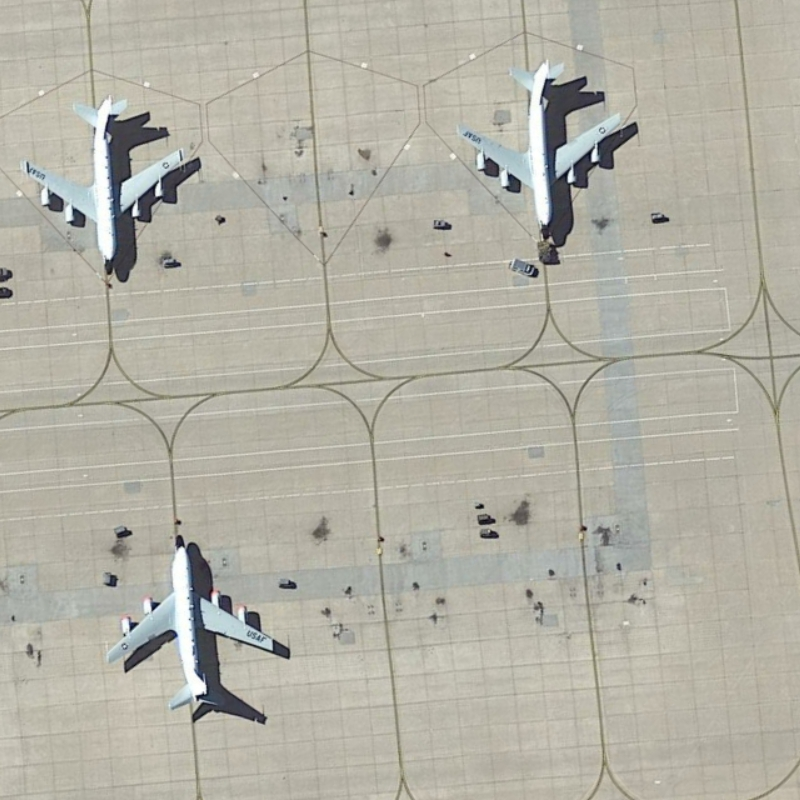A11: (14, 90, 212, 284), (102, 523, 289, 723), (448, 54, 632, 243)
